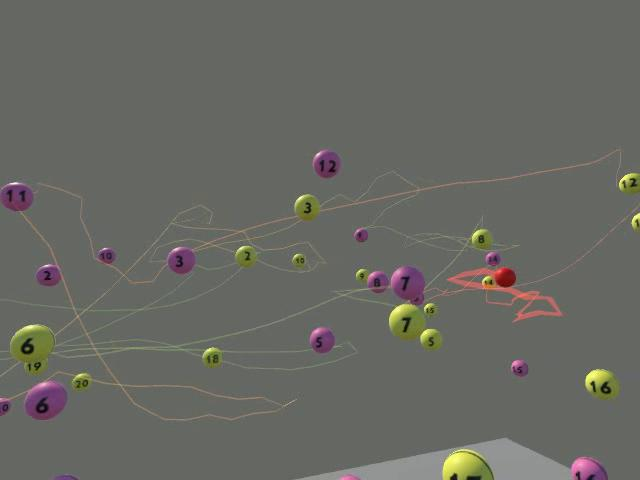ball_02_pink: (35, 263, 60, 286)
ball_02_yellow: (234, 245, 256, 267)
ball_03_pink: (166, 246, 195, 273)
ball_03_yellow: (293, 193, 320, 220)
ball_05_pink: (309, 326, 334, 353)
ball_05_yellow: (419, 328, 442, 350)
ball_06_pink: (24, 380, 67, 420)
ball_06_yellow: (9, 323, 55, 363)
ball_07_pink: (390, 265, 425, 300)
ball_07_yellow: (388, 303, 425, 340)
ball_08_pink: (366, 270, 388, 293)
ball_08_yellow: (471, 228, 492, 249)
ball_09_pink: (353, 227, 367, 242)
ball_09_yellow: (355, 268, 369, 283)
ball_10_pink: (97, 247, 115, 264)
ball_10_yellow: (291, 253, 306, 267)
ball_11_pink: (0, 181, 33, 211)
ball_12_pink: (313, 149, 341, 178)
ball_12_yellow: (618, 172, 639, 194)
ball_14_pink: (485, 251, 500, 266)
ball_14_yellow: (481, 274, 495, 287)
ball_15_pink: (510, 359, 528, 376)
ball_15_yellow: (423, 302, 437, 316)
ball_16_yellow: (584, 368, 619, 399)
ball_18_yellow: (201, 346, 222, 367)
ball_20_yellow: (71, 372, 91, 391)
ball_unknown: (441, 448, 493, 479), (570, 456, 607, 479), (23, 358, 47, 374), (408, 292, 424, 305), (0, 397, 10, 415), (630, 212, 639, 231), (50, 474, 78, 479), (339, 474, 360, 479)
user_cursor: (494, 267, 516, 287)
